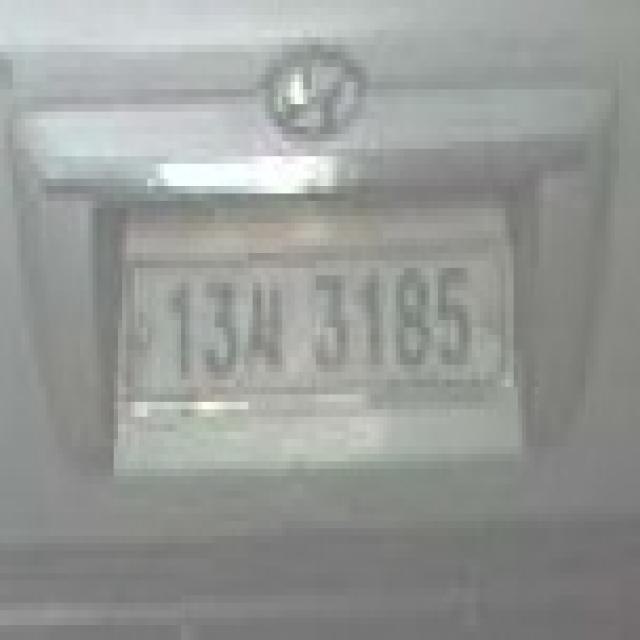1: (160, 275, 202, 402), (354, 260, 387, 387)
3: (312, 253, 354, 380), (202, 268, 240, 394)
5: (438, 253, 476, 372)
8: (387, 260, 434, 380)
license_plate: (118, 223, 514, 417)
seo: (244, 276, 291, 394)
